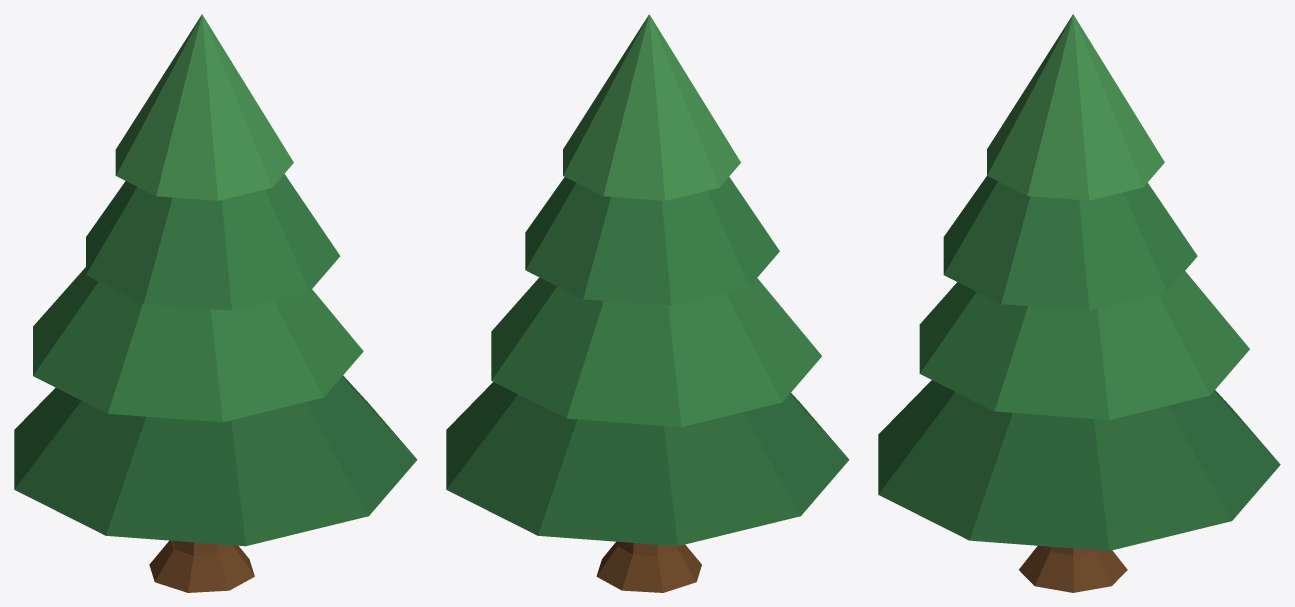
File: tree-pine.glb
3 views of the same model, side by side, from view 1: azimuth 30°, elevation 25°; view 2: azimuth 150°, elevation 25°; view 3: azimuth 270°, elevation 25° (orthographic).
Parts seen in each view (by area): view 1: Pine_Crown, Pine_Trunk; view 2: Pine_Crown, Pine_Trunk; view 3: Pine_Crown, Pine_Trunk.
Boxes of the visible parts, x1,y1,x2,y2 form: Pine_Crown: (14,14,417,546); Pine_Trunk: (149,540,254,592); Pine_Crown: (446,14,849,546); Pine_Trunk: (596,541,701,592); Pine_Crown: (878,14,1280,550); Pine_Trunk: (1019,545,1127,592).
Size of the model in its own units: 1.87 by 2.81 by 1.84.
